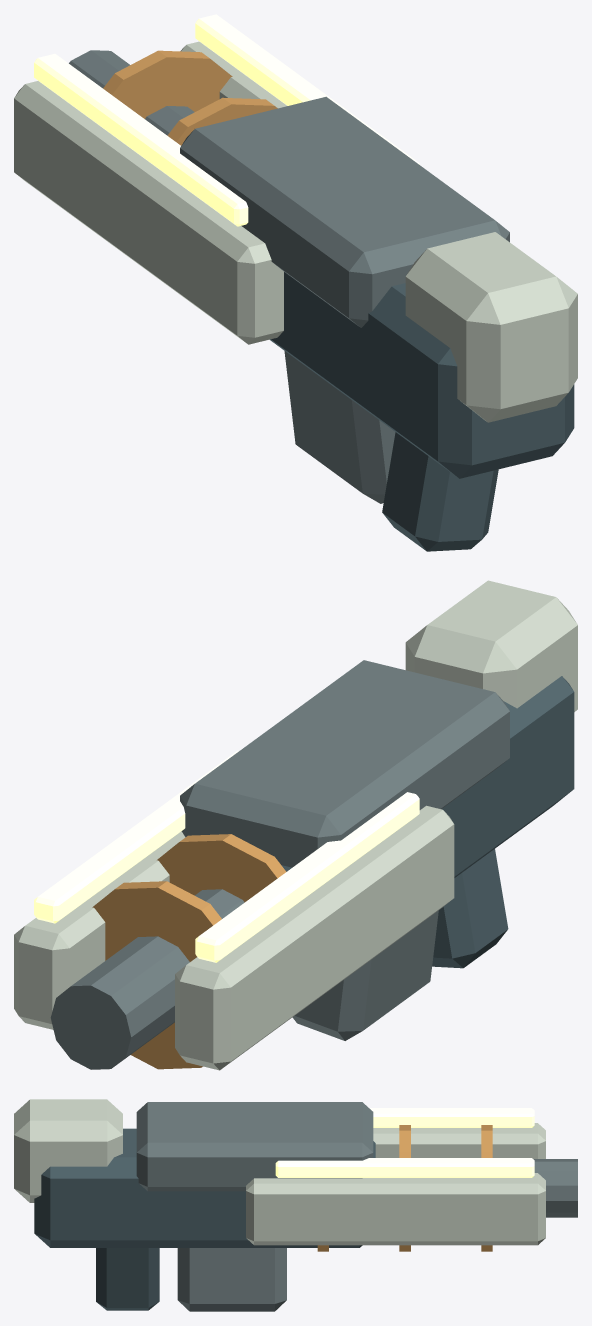
The model's file is coil_lance.glb.
The picture shows the model from 3 angles, top to bottom: view 1: azimuth 30°, elevation 25°; view 2: azimuth 150°, elevation 25°; view 3: azimuth 270°, elevation 25°; orthographic projection. The views are drawn at different scales.
Visible parts, largest first — view 1: weapon; view 2: weapon; view 3: weapon.
Boxes of the visible parts, left/top/right/bottom form: weapon: left=14, top=14, right=577, bottom=551; weapon: left=14, top=580, right=577, bottom=1070; weapon: left=14, top=1099, right=577, bottom=1311.
Size of the model in its own units: 0.35 by 0.4796 by 1.24.
